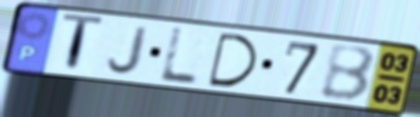7: (281, 39, 323, 96)
B: (318, 44, 378, 104)
D: (206, 30, 260, 90)
J: (105, 24, 152, 76)
L: (156, 25, 200, 87)
T: (60, 11, 107, 76)
